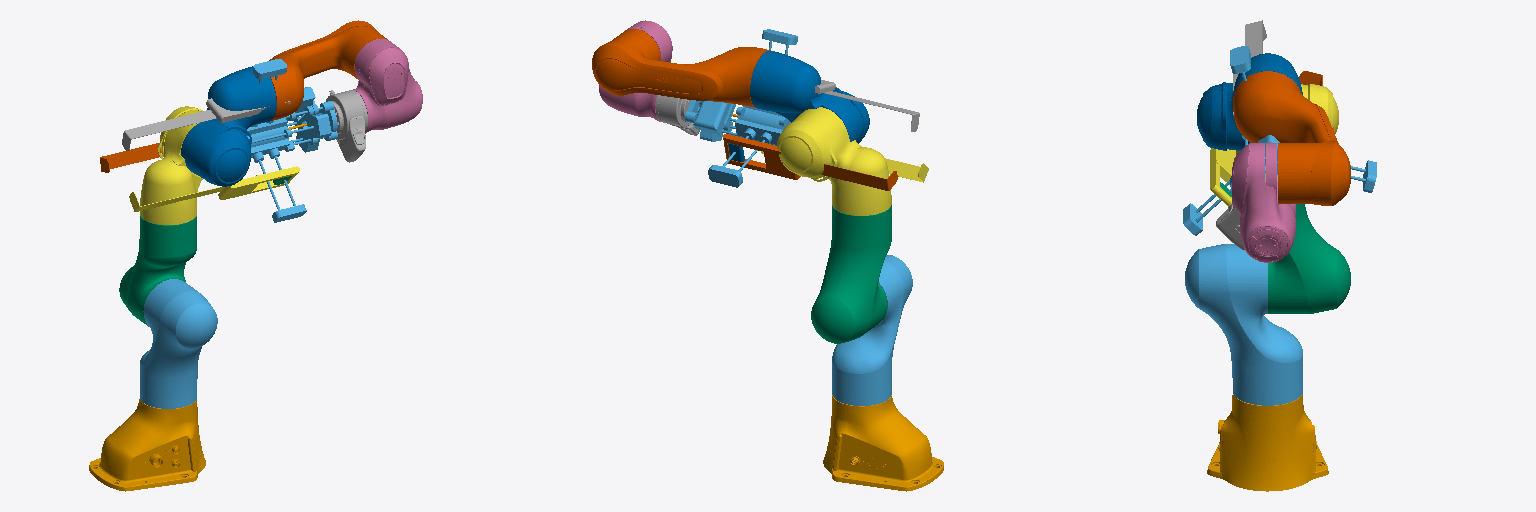
--- Render facts (derived) ---
3 views of the same robot in one strip: view 1: azimuth 30°, elevation 25°; view 2: azimuth 150°, elevation 25°; view 3: azimuth 270°, elevation 25° (orthographic).
Model panda_and_gripper with 18 links and 17 joints (10 revolute, 4 prismatic, 3 fixed), rooted at world, posed joints at zero except 4 at the middle of their limits (panda_joint4 = -1.57, finger_1_prismatic_joint = 0.0915, finger_2_prismatic_joint = 0.0915, finger_3_prismatic_joint = 0.0915).
Visible links, largest first — view 1: panda_link0, panda_link1, panda_link4, panda_link6, gripper_base_link, panda_link5, panda_link2, panda_link3, panda_link7, finger_3, finger_1, finger_2; view 2: panda_link0, panda_link5, panda_link2, panda_link3, panda_link1, panda_link4, gripper_base_link, finger_2, panda_link6, panda_link7, finger_3, finger_1; view 3: panda_link1, panda_link5, panda_link0, panda_link2, panda_link6, panda_link4, gripper_base_link, finger_1, panda_link3, panda_link7, finger_3.
Boxes of the visible links, x1=… form: panda_link0: x1=89, y1=399, x2=205, y2=491; panda_link1: x1=140, y1=279, x2=217, y2=408; panda_link4: x1=181, y1=66, x2=276, y2=186; panda_link6: x1=353, y1=39, x2=422, y2=133; gripper_base_link: x1=247, y1=59, x2=337, y2=222; panda_link5: x1=269, y1=20, x2=387, y2=121; panda_link2: x1=119, y1=216, x2=196, y2=326; panda_link3: x1=140, y1=106, x2=202, y2=224; panda_link7: x1=326, y1=90, x2=367, y2=162; finger_3: x1=122, y1=98, x2=290, y2=150; finger_1: x1=129, y1=166, x2=299, y2=211; finger_2: x1=100, y1=143, x2=161, y2=172; panda_link0: x1=823, y1=395, x2=943, y2=491; panda_link5: x1=592, y1=29, x2=770, y2=107; panda_link2: x1=811, y1=205, x2=891, y2=343; panda_link3: x1=777, y1=107, x2=891, y2=215; panda_link1: x1=832, y1=255, x2=912, y2=405; panda_link4: x1=750, y1=51, x2=869, y2=143; gripper_base_link: x1=684, y1=29, x2=797, y2=187; finger_2: x1=723, y1=134, x2=897, y2=190; panda_link6: x1=599, y1=20, x2=672, y2=121; panda_link7: x1=655, y1=95, x2=699, y2=135; finger_3: x1=815, y1=80, x2=919, y2=131; finger_1: x1=761, y1=151, x2=928, y2=182; panda_link1: x1=1185, y1=244, x2=1302, y2=405; panda_link5: x1=1233, y1=71, x2=1350, y2=205; panda_link0: x1=1207, y1=394, x2=1328, y2=491; panda_link2: x1=1268, y1=204, x2=1350, y2=313; panda_link6: x1=1232, y1=143, x2=1295, y2=262; panda_link4: x1=1197, y1=53, x2=1302, y2=150; gripper_base_link: x1=1183, y1=46, x2=1376, y2=235; finger_1: x1=1210, y1=148, x2=1235, y2=206; panda_link3: x1=1236, y1=84, x2=1338, y2=155; panda_link7: x1=1216, y1=173, x2=1295, y2=249; finger_3: x1=1233, y1=20, x2=1266, y2=114.
Bounding box of the posed robot: 0.7022 × 0.301 × 0.8128 m (x, y, z).
16 mesh visuals loaded from 12 distinct referenced files (12 binary STL).

The robot description file, URDF, robot "panda_and_gripper":
<?xml version="1.0" ?>
<!-- =================================================================================== -->
<!-- |    This document was autogenerated by xacro from panda_and_gripper.urdf.xacro   | -->
<!-- |    EDITING THIS FILE BY HAND IS NOT RECOMMENDED                                 | -->
<!-- =================================================================================== -->
<robot name="panda_and_gripper">
  <!-- <link name="world" />
    <xacro:unless value="${not connected_to}">
      <joint name="virtual_joint" type="fixed">
        <parent link="${connected_to}"/>
        <child link="${arm_id}_link0"/>
        <origin rpy="${rpy}" xyz="${xyz}"/>
        <dynamics damping="1.0"/>
      </joint>
    </xacro:unless> -->
  <!-- PARAMETERS TO SET BY HAND -->
  <!-- END OF PARAMETERS TO SET BY HAND -->
  <!-- original working mesh links -->
  <!--    <xacro:arm_link number="0" visual_mesh="package://${mesh_folder}/visual/link0.dae"-->
  <!--      collision_mesh="package://${mesh_folder}/collision/link0.stl" mass="3.06"/>-->
  <!--    <xacro:arm_link number="1" visual_mesh="package://${mesh_folder}/visual/link1.dae"-->
  <!--      collision_mesh="package://${mesh_folder}/collision/link1.stl" mass="2.34"/>-->
  <!--    <xacro:arm_link number="2" visual_mesh="package://${mesh_folder}/visual/link2.dae"-->
  <!--      collision_mesh="package://${mesh_folder}/collision/link2.stl" mass="2.36"/>-->
  <!--    <xacro:arm_link number="3" visual_mesh="package://${mesh_folder}/visual/link3.dae"-->
  <!--      collision_mesh="package://${mesh_folder}/collision/link3.stl" mass="2.38"/>-->
  <!--    <xacro:arm_link number="4" visual_mesh="package://${mesh_folder}/visual/link4.dae"-->
  <!--      collision_mesh="package://${mesh_folder}/collision/link4.stl" mass="2.43"/>-->
  <!--    <xacro:arm_link number="5" visual_mesh="package://${mesh_folder}/visual/link5.dae"-->
  <!--      collision_mesh="package://${mesh_folder}/collision/link5.stl" mass="3.5"/>-->
  <!--    <xacro:arm_link number="6" visual_mesh="package://${mesh_folder}/visual/link6.dae"-->
  <!--      collision_mesh="package://${mesh_folder}/collision/link6.stl" mass="1.47"/>-->
  <!--    <xacro:arm_link number="7" visual_mesh="package://${mesh_folder}/visual/link7.dae"-->
  <!--      collision_mesh="package://${mesh_folder}/collision/link7.stl" mass="0.45"/>-->
  <!--     <xacro:arm_link number="8"/>-->
  <link name="panda_link0">
    <visual>
      <geometry>
        <mesh filename="package://gripper_description/meshes_panda/panda visual link0.stl"/>
      </geometry>
    </visual>
    <collision>
      <geometry>
        <mesh filename="package://gripper_description/meshes_panda/panda collision link0.stl"/>
      </geometry>
    </collision>
    <inertial>
      <origin rpy="0 0 0" xyz="0 0 0"/>
      <mass value="3.06"/>
      <inertia ixx="0.3" ixy="0.0" ixz="0.0" iyy="0.3" iyz="0.0" izz="0.3"/>
    </inertial>
  </link>
  <link name="panda_link1">
    <visual>
      <geometry>
        <mesh filename="package://gripper_description/meshes_panda/panda visual link1.stl"/>
      </geometry>
    </visual>
    <collision>
      <geometry>
        <mesh filename="package://gripper_description/meshes_panda/panda collision link1.stl"/>
      </geometry>
    </collision>
    <inertial>
      <origin rpy="0 0 0" xyz="0 0 0"/>
      <mass value="2.34"/>
      <inertia ixx="7.0337e-01" ixy="-1.3900e-04" ixz="6.7720e-03" iyy="7.0661e-01" iyz="1.9169e-02" izz="9.1170e-03"/>
    </inertial>
  </link>
  <link name="panda_link2">
    <visual>
      <geometry>
        <mesh filename="package://gripper_description/meshes_panda/panda visual link2.stl"/>
      </geometry>
    </visual>
    <collision>
      <geometry>
        <mesh filename="package://gripper_description/meshes_panda/panda collision link2.stl"/>
      </geometry>
    </collision>
    <inertial>
      <origin rpy="0 0 0" xyz="0 0 0"/>
      <mass value="2.36"/>
      <inertia ixx="7.9620e-03" ixy="-3.9250e-03" ixz="1.0254e-02" iyy="2.8110e-02" iyz="7.0400e-04" izz="2.5995e-02"/>
    </inertial>
  </link>
  <link name="panda_link3">
    <visual>
      <geometry>
        <mesh filename="package://gripper_description/meshes_panda/panda visual link3.stl"/>
      </geometry>
    </visual>
    <collision>
      <geometry>
        <mesh filename="package://gripper_description/meshes_panda/panda collision link3.stl"/>
      </geometry>
    </collision>
    <inertial>
      <origin rpy="0 0 0" xyz="0 0 0"/>
      <mass value="2.38"/>
      <inertia ixx="3.7242e-02" ixy="-4.7610e-03" ixz="-1.1396e-02" iyy="3.6155e-02" iyz="-1.2805e-02" izz="1.0830e-02"/>
    </inertial>
  </link>
  <link name="panda_link4">
    <visual>
      <geometry>
        <mesh filename="package://gripper_description/meshes_panda/panda visual link4.stl"/>
      </geometry>
    </visual>
    <collision>
      <geometry>
        <mesh filename="package://gripper_description/meshes_panda/panda collision link4.stl"/>
      </geometry>
    </collision>
    <inertial>
      <origin rpy="0 0 0" xyz="0 0 0"/>
      <mass value="2.43"/>
      <inertia ixx="2.5853e-02" ixy="7.7960e-03" ixz="-1.3320e-03" iyy="1.9552e-02" iyz="8.6410e-03" izz="2.8323e-02"/>
    </inertial>
  </link>
  <link name="panda_link5">
    <visual>
      <geometry>
        <mesh filename="package://gripper_description/meshes_panda/panda visual link5.stl"/>
      </geometry>
    </visual>
    <collision>
      <geometry>
        <mesh filename="package://gripper_description/meshes_panda/panda collision link5.stl"/>
      </geometry>
    </collision>
    <inertial>
      <origin rpy="0 0 0" xyz="0 0 0"/>
      <mass value="3.5"/>
      <inertia ixx="3.5549e-02" ixy="-2.1170e-03" ixz="-4.0370e-03" iyy="2.9474e-02" iyz="2.2900e-04" izz="8.6270e-03"/>
    </inertial>
  </link>
  <link name="panda_link6">
    <visual>
      <geometry>
        <mesh filename="package://gripper_description/meshes_panda/panda visual link6.stl"/>
      </geometry>
    </visual>
    <collision>
      <geometry>
        <mesh filename="package://gripper_description/meshes_panda/panda collision link6.stl"/>
      </geometry>
    </collision>
    <inertial>
      <origin rpy="0 0 0" xyz="0 0 0"/>
      <mass value="1.47"/>
      <inertia ixx="1.9640e-03" ixy="1.0900e-04" ixz="-1.1580e-03" iyy="4.3540e-03" iyz="3.4100e-04" izz="5.4330e-03"/>
    </inertial>
  </link>
  <link name="panda_link7">
    <visual>
      <geometry>
        <mesh filename="package://gripper_description/meshes_panda/panda visual link7.stl"/>
      </geometry>
    </visual>
    <collision>
      <geometry>
        <mesh filename="package://gripper_description/meshes_panda/panda collision link7.stl"/>
      </geometry>
    </collision>
    <inertial>
      <origin rpy="0 0 0" xyz="0 0 0"/>
      <mass value="0.45"/>
      <inertia ixx="1.2516e-02" ixy="-4.2800e-04" ixz="-1.1960e-03" iyy="1.0027e-02" iyz="-7.4100e-04" izz="4.8150e-03"/>
    </inertial>
  </link>
  <link name="panda_link8">
    <inertial>
      <origin rpy="0 0 0" xyz="0 0 0"/>
      <mass value="0.0"/>
      <inertia ixx="1e-4" ixy="0.0" ixz="0.0" iyy="1e-4" iyz="0.0" izz="1e-4"/>
    </inertial>
  </link>
  <!-- joint6 limit lower = -0.0175 -->
  <joint name="panda_joint1" type="revolute">
    <safety_controller k_position="100.0" k_velocity="40.0" soft_lower_limit="-2.8973" soft_upper_limit="2.8973"/>
    <origin rpy="0 0 0" xyz="0 0 0.333"/>
    <parent link="panda_link0"/>
    <child link="panda_link1"/>
    <limit effort="87" lower="-2.8973" upper="2.8973" velocity="2.175"/>
    <axis xyz="0 0 1"/>
    <dynamics damping="1.0" friction="0.1"/>
  </joint>
  <joint name="panda_joint2" type="revolute">
    <safety_controller k_position="100.0" k_velocity="40.0" soft_lower_limit="-1.7628" soft_upper_limit="1.7628"/>
    <origin rpy="-1.5707963267948966 0 0" xyz="0 0 0"/>
    <parent link="panda_link1"/>
    <child link="panda_link2"/>
    <limit effort="87" lower="-1.7628" upper="1.7628" velocity="2.175"/>
    <axis xyz="0 0 1"/>
    <dynamics damping="1.0" friction="0.1"/>
  </joint>
  <joint name="panda_joint3" type="revolute">
    <safety_controller k_position="100.0" k_velocity="40.0" soft_lower_limit="-2.8973" soft_upper_limit="2.8973"/>
    <origin rpy="1.5707963267948966 0 0" xyz="0 -0.316 0"/>
    <parent link="panda_link2"/>
    <child link="panda_link3"/>
    <limit effort="87" lower="-2.8973" upper="2.8973" velocity="2.175"/>
    <axis xyz="0 0 1"/>
    <dynamics damping="1.0" friction="0.1"/>
  </joint>
  <joint name="panda_joint4" type="revolute">
    <safety_controller k_position="100.0" k_velocity="40.0" soft_lower_limit="-3.0718" soft_upper_limit="-0.0698"/>
    <origin rpy="1.5707963267948966 0 0" xyz="0.0825 0 0"/>
    <parent link="panda_link3"/>
    <child link="panda_link4"/>
    <limit effort="87" lower="-3.0718" upper="-0.0698" velocity="2.175"/>
    <axis xyz="0 0 1"/>
    <dynamics damping="1.0" friction="0.1"/>
  </joint>
  <joint name="panda_joint5" type="revolute">
    <safety_controller k_position="100.0" k_velocity="40.0" soft_lower_limit="-2.8973" soft_upper_limit="2.8973"/>
    <origin rpy="-1.5707963267948966 0 0" xyz="-0.0825 0.384 0"/>
    <parent link="panda_link4"/>
    <child link="panda_link5"/>
    <limit effort="12" lower="-2.8973" upper="2.8973" velocity="2.61"/>
    <axis xyz="0 0 1"/>
    <dynamics damping="1.0" friction="0.1"/>
  </joint>
  <joint name="panda_joint6" type="revolute">
    <safety_controller k_position="100.0" k_velocity="40.0" soft_lower_limit="-0.0175" soft_upper_limit="3.7525"/>
    <origin rpy="1.5707963267948966 0 0" xyz="0 0 0"/>
    <parent link="panda_link5"/>
    <child link="panda_link6"/>
    <limit effort="12" lower="-0.0175" upper="3.7525" velocity="2.61"/>
    <axis xyz="0 0 1"/>
    <dynamics damping="1.0" friction="0.1"/>
  </joint>
  <joint name="panda_joint7" type="revolute">
    <safety_controller k_position="100.0" k_velocity="40.0" soft_lower_limit="-2.8973" soft_upper_limit="2.8973"/>
    <origin rpy="1.5707963267948966 0 0" xyz="0.088 0 0"/>
    <parent link="panda_link6"/>
    <child link="panda_link7"/>
    <limit effort="12" lower="-2.8973" upper="2.8973" velocity="2.61"/>
    <axis xyz="0 0 1"/>
    <dynamics damping="1.0" friction="0.1"/>
  </joint>
  <joint name="panda_joint8" type="fixed">
    <origin rpy="0 0 0" xyz="0 0 0.107"/>
    <parent link="panda_link7"/>
    <child link="panda_link8"/>
    <axis xyz="0 0 0"/>
    <dynamics damping="1.0" friction="0.1"/>
  </joint>
  <gazebo reference="panda_link0">
    <material>Gazebo/White</material>
    <mu1>0.2</mu1>
    <mu2>0.2</mu2>
  </gazebo>
  <gazebo reference="panda_link1">
    <material>Gazebo/White</material>
    <mu1>0.2</mu1>
    <mu2>0.2</mu2>
  </gazebo>
  <gazebo reference="panda_link2">
    <material>Gazebo/White</material>
    <mu1>0.2</mu1>
    <mu2>0.2</mu2>
  </gazebo>
  <gazebo reference="panda_link3">
    <material>Gazebo/White</material>
    <mu1>0.2</mu1>
    <mu2>0.2</mu2>
  </gazebo>
  <gazebo reference="panda_link4">
    <material>Gazebo/White</material>
    <mu1>0.2</mu1>
    <mu2>0.2</mu2>
  </gazebo>
  <gazebo reference="panda_link5">
    <material>Gazebo/White</material>
    <mu1>0.2</mu1>
    <mu2>0.2</mu2>
  </gazebo>
  <gazebo reference="panda_link6">
    <material>Gazebo/White</material>
    <mu1>0.2</mu1>
    <mu2>0.2</mu2>
  </gazebo>
  <gazebo reference="gripper_base_link">
    <material>Gazebo/Grey</material>
    <mu1>0.2</mu1>
    <mu2>0.2</mu2>
  </gazebo>
  <gazebo reference="finger_1_intermediate">
    <material>Gazebo/Grey</material>
    <mu1>0.2</mu1>
    <mu2>0.2</mu2>
  </gazebo>
  <gazebo reference="finger_1">
    <material>Gazebo/Grey</material>
    <mu1>0.2</mu1>
    <mu2>0.2</mu2>
  </gazebo>
  <gazebo reference="finger_2_intermediate">
    <material>Gazebo/Grey</material>
    <mu1>0.2</mu1>
    <mu2>0.2</mu2>
  </gazebo>
  <gazebo reference="finger_2">
    <material>Gazebo/Grey</material>
    <mu1>0.2</mu1>
    <mu2>0.2</mu2>
  </gazebo>
  <gazebo reference="finger_3_intermediate">
    <material>Gazebo/Grey</material>
    <mu1>0.2</mu1>
    <mu2>0.2</mu2>
  </gazebo>
  <gazebo reference="finger_3">
    <material>Gazebo/Grey</material>
    <mu1>0.2</mu1>
    <mu2>0.2</mu2>
  </gazebo>
  <gazebo reference="palm">
    <material>Gazebo/Grey</material>
    <mu1>0.2</mu1>
    <mu2>0.2</mu2>
  </gazebo>
  <transmission name="panda_tran_1">
    <type>transmission_interface/SimpleTransmission</type>
    <joint name="panda_joint1">
      <!-- <hardwareInterface>hardware_interface/EffortJointInterface</hardwareInterface> -->
      <hardwareInterface>hardware_interface/PositionJointInterface</hardwareInterface>
    </joint>
    <actuator name="panda_motor_1">
      <!-- <hardwareInterface>hardware_interface/EffortJointInterface</hardwareInterface> -->
      <hardwareInterface>hardware_interface/PositionJointInterface</hardwareInterface>
      <mechanicalReduction>1</mechanicalReduction>
    </actuator>
  </transmission>
  <transmission name="panda_tran_2">
    <type>transmission_interface/SimpleTransmission</type>
    <joint name="panda_joint2">
      <!-- <hardwareInterface>hardware_interface/EffortJointInterface</hardwareInterface> -->
      <hardwareInterface>hardware_interface/PositionJointInterface</hardwareInterface>
    </joint>
    <actuator name="panda_motor_2">
      <!-- <hardwareInterface>hardware_interface/EffortJointInterface</hardwareInterface> -->
      <hardwareInterface>hardware_interface/PositionJointInterface</hardwareInterface>
      <mechanicalReduction>1</mechanicalReduction>
    </actuator>
  </transmission>
  <transmission name="panda_tran_3">
    <type>transmission_interface/SimpleTransmission</type>
    <joint name="panda_joint3">
      <!-- <hardwareInterface>hardware_interface/EffortJointInterface</hardwareInterface> -->
      <hardwareInterface>hardware_interface/PositionJointInterface</hardwareInterface>
    </joint>
    <actuator name="panda_motor_3">
      <!-- <hardwareInterface>hardware_interface/EffortJointInterface</hardwareInterface> -->
      <hardwareInterface>hardware_interface/PositionJointInterface</hardwareInterface>
      <mechanicalReduction>1</mechanicalReduction>
    </actuator>
  </transmission>
  <transmission name="panda_tran_4">
    <type>transmission_interface/SimpleTransmission</type>
    <joint name="panda_joint4">
      <!-- <hardwareInterface>hardware_interface/EffortJointInterface</hardwareInterface> -->
      <hardwareInterface>hardware_interface/PositionJointInterface</hardwareInterface>
    </joint>
    <actuator name="panda_motor_4">
      <!-- <hardwareInterface>hardware_interface/EffortJointInterface</hardwareInterface> -->
      <hardwareInterface>hardware_interface/PositionJointInterface</hardwareInterface>
      <mechanicalReduction>1</mechanicalReduction>
    </actuator>
  </transmission>
  <transmission name="panda_tran_5">
    <type>transmission_interface/SimpleTransmission</type>
    <joint name="panda_joint5">
      <!-- <hardwareInterface>hardware_interface/EffortJointInterface</hardwareInterface> -->
      <hardwareInterface>hardware_interface/PositionJointInterface</hardwareInterface>
    </joint>
    <actuator name="panda_motor_5">
      <!-- <hardwareInterface>hardware_interface/EffortJointInterface</hardwareInterface> -->
      <hardwareInterface>hardware_interface/PositionJointInterface</hardwareInterface>
      <mechanicalReduction>1</mechanicalReduction>
    </actuator>
  </transmission>
  <transmission name="panda_tran_6">
    <type>transmission_interface/SimpleTransmission</type>
    <joint name="panda_joint6">
      <!-- <hardwareInterface>hardware_interface/EffortJointInterface</hardwareInterface> -->
      <hardwareInterface>hardware_interface/PositionJointInterface</hardwareInterface>
    </joint>
    <actuator name="panda_motor_6">
      <!-- <hardwareInterface>hardware_interface/EffortJointInterface</hardwareInterface> -->
      <hardwareInterface>hardware_interface/PositionJointInterface</hardwareInterface>
      <mechanicalReduction>1</mechanicalReduction>
    </actuator>
  </transmission>
  <transmission name="panda_tran_7">
    <type>transmission_interface/SimpleTransmission</type>
    <joint name="panda_joint7">
      <!-- <hardwareInterface>hardware_interface/EffortJointInterface</hardwareInterface> -->
      <hardwareInterface>hardware_interface/PositionJointInterface</hardwareInterface>
    </joint>
    <actuator name="panda_motor_7">
      <!-- <hardwareInterface>hardware_interface/EffortJointInterface</hardwareInterface> -->
      <hardwareInterface>hardware_interface/PositionJointInterface</hardwareInterface>
      <mechanicalReduction>1</mechanicalReduction>
    </actuator>
  </transmission>
  <transmission name="panda_tran_8">
    <type>transmission_interface/SimpleTransmission</type>
    <joint name="finger_1_revolute_joint">
      <!-- <hardwareInterface>hardware_interface/EffortJointInterface</hardwareInterface> -->
      <hardwareInterface>hardware_interface/PositionJointInterface</hardwareInterface>
    </joint>
    <actuator name="panda_motor_8">
      <!-- <hardwareInterface>hardware_interface/EffortJointInterface</hardwareInterface> -->
      <hardwareInterface>hardware_interface/PositionJointInterface</hardwareInterface>
      <mechanicalReduction>1</mechanicalReduction>
    </actuator>
  </transmission>
  <transmission name="panda_tran_9">
    <type>transmission_interface/SimpleTransmission</type>
    <joint name="finger_1_prismatic_joint">
      <!-- <hardwareInterface>hardware_interface/EffortJointInterface</hardwareInterface> -->
      <hardwareInterface>hardware_interface/PositionJointInterface</hardwareInterface>
    </joint>
    <actuator name="panda_motor_9">
      <!-- <hardwareInterface>hardware_interface/EffortJointInterface</hardwareInterface> -->
      <hardwareInterface>hardware_interface/PositionJointInterface</hardwareInterface>
      <mechanicalReduction>1</mechanicalReduction>
    </actuator>
  </transmission>
  <transmission name="panda_tran_10">
    <type>transmission_interface/SimpleTransmission</type>
    <joint name="finger_2_revolute_joint">
      <!-- <hardwareInterface>hardware_interface/EffortJointInterface</hardwareInterface> -->
      <hardwareInterface>hardware_interface/PositionJointInterface</hardwareInterface>
    </joint>
    <actuator name="panda_motor_10">
      <!-- <hardwareInterface>hardware_interface/EffortJointInterface</hardwareInterface> -->
      <hardwareInterface>hardware_interface/PositionJointInterface</hardwareInterface>
      <mechanicalReduction>1</mechanicalReduction>
    </actuator>
  </transmission>
  <transmission name="panda_tran_11">
    <type>transmission_interface/SimpleTransmission</type>
    <joint name="finger_2_prismatic_joint">
      <!-- <hardwareInterface>hardware_interface/EffortJointInterface</hardwareInterface> -->
      <hardwareInterface>hardware_interface/PositionJointInterface</hardwareInterface>
    </joint>
    <actuator name="panda_motor_11">
      <!-- <hardwareInterface>hardware_interface/EffortJointInterface</hardwareInterface> -->
      <hardwareInterface>hardware_interface/PositionJointInterface</hardwareInterface>
      <mechanicalReduction>1</mechanicalReduction>
    </actuator>
  </transmission>
  <transmission name="panda_tran_12">
    <type>transmission_interface/SimpleTransmission</type>
    <joint name="finger_3_revolute_joint">
      <!-- <hardwareInterface>hardware_interface/EffortJointInterface</hardwareInterface> -->
      <hardwareInterface>hardware_interface/PositionJointInterface</hardwareInterface>
    </joint>
    <actuator name="panda_motor_12">
      <!-- <hardwareInterface>hardware_interface/EffortJointInterface</hardwareInterface> -->
      <hardwareInterface>hardware_interface/PositionJointInterface</hardwareInterface>
      <mechanicalReduction>1</mechanicalReduction>
    </actuator>
  </transmission>
  <transmission name="panda_tran_13">
    <type>transmission_interface/SimpleTransmission</type>
    <joint name="finger_3_prismatic_joint">
      <!-- <hardwareInterface>hardware_interface/EffortJointInterface</hardwareInterface> -->
      <hardwareInterface>hardware_interface/PositionJointInterface</hardwareInterface>
    </joint>
    <actuator name="panda_motor_13">
      <!-- <hardwareInterface>hardware_interface/EffortJointInterface</hardwareInterface> -->
      <hardwareInterface>hardware_interface/PositionJointInterface</hardwareInterface>
      <mechanicalReduction>1</mechanicalReduction>
    </actuator>
  </transmission>
  <transmission name="panda_tran_14">
    <type>transmission_interface/SimpleTransmission</type>
    <joint name="palm_prismatic_joint">
      <!-- <hardwareInterface>hardware_interface/EffortJointInterface</hardwareInterface> -->
      <hardwareInterface>hardware_interface/PositionJointInterface</hardwareInterface>
    </joint>
    <actuator name="panda_motor_14">
      <!-- <hardwareInterface>hardware_interface/EffortJointInterface</hardwareInterface> -->
      <hardwareInterface>hardware_interface/PositionJointInterface</hardwareInterface>
      <mechanicalReduction>1</mechanicalReduction>
    </actuator>
  </transmission>
  <gazebo>
    <plugin filename="libgazebo_ros_control.so" name="gazebo_ros_control">
      <!--            	<robotNamespace>/gripper_controller</robotNamespace>-->
    </plugin>
  </gazebo>
  <!-- PARAMETERS TO BE SET BY HAND -->
  <!-- END OF PARAMETERS TO BE SET BY HAND -->
  <!-- PARAMETERS TO BE SET BY HAND -->
  <!-- END OF PARAMETER TO BE SET BY HAND -->
  <!-- BASE LINK -->
  <link name="gripper_base_link">
    <inertial>
      <mass value="1.5"/>
      <origin rpy="3.141592653589793 0 0" xyz="0 0 0.025"/>
      <inertia ixx="9.95e-3" ixy="2.73e-6" ixz="-14.32e-6" iyy="10.08e-3" iyz="121.38e-6" izz="5.13e-3"/>
    </inertial>
    <visual>
      <geometry>
        <mesh filename="package://gripper_description/meshes/main body visual.STL"/>
      </geometry>
    </visual>
    <collision>
      <geometry>
        <!--          <mesh filename="package://gripper_description/meshes/main body collision.STL"/>-->
        <cylinder length="0.1" radius="0.03"/>
      </geometry>
    </collision>
  </link>
  <!-- Intermediate link for prismatic joint -->
  <link name="finger_1_intermediate">
    <inertial>
      <mass value="0.1"/>
      <origin rpy="0 0 0" xyz="0 0 0"/>
      <inertia ixx="55.59e-6" ixy="-47.23e-6" ixz="1.16e-6" iyy="146.36e-6" iyz="1.00e-6" izz="154.18e-6"/>
    </inertial>
    <visual>
      <geometry>
        <mesh filename="package://gripper_description/meshes/nut visual.STL"/>
      </geometry>
    </visual>
    <collision>
      <geometry>
        <mesh filename="package://gripper_description/meshes/nut collision.STL"/>
      </geometry>
    </collision>
  </link>
  <!-- Main finger link -->
  <link name="finger_1">
    <inertial>
      <mass value="0.2"/>
      <origin rpy="0 0 0" xyz="0 0 0"/>
      <inertia ixx="283.44e-6" ixy="-567.23e-6" ixz="-6.59e-6" iyy="1.38e-3" iyz="2.40e-6" izz="1.60e-3"/>
    </inertial>
    <visual>
      <geometry>
        <mesh filename="package://gripper_description/meshes/finger platform visual.STL"/>
      </geometry>
    </visual>
    <collision>
      <geometry>
        <mesh filename="package://gripper_description/meshes/finger platform collision.STL"/>
      </geometry>
    </collision>
  </link>
  <joint name="finger_1_prismatic_joint" type="prismatic">
    <axis rpy="0 0 0" xyz="0 1 0"/>
    <parent link="gripper_base_link"/>
    <child link="finger_1_intermediate"/>
    <origin rpy="4.71238898038469                    4.71238898038469                    1.5707963267948966" xyz="0.0                    0.0                    0"/>
    <limit effort="40.0" lower="0.049" upper="0.134" velocity="0.015"/>
    <dynamics damping="1.0"/>
  </joint>
  <joint name="finger_1_revolute_joint" type="revolute">
    <axis rpy="0 0 0" xyz="0 0 1"/>
    <parent link="finger_1_intermediate"/>
    <child link="finger_1"/>
    <origin rpy="0 0 0.0" xyz="0 0 0"/>
    <limit effort="40.0" lower="-0.7" upper="0.7" velocity="0.1"/>
    <dynamics damping="1.0"/>
  </joint>
  <!-- Intermediate link for prismatic joint -->
  <link name="finger_2_intermediate">
    <inertial>
      <mass value="0.1"/>
      <origin rpy="0 0 0" xyz="0 0 0"/>
      <inertia ixx="55.59e-6" ixy="-47.23e-6" ixz="1.16e-6" iyy="146.36e-6" iyz="1.00e-6" izz="154.18e-6"/>
    </inertial>
    <visual>
      <geometry>
        <mesh filename="package://gripper_description/meshes/nut visual.STL"/>
      </geometry>
    </visual>
    <collision>
      <geometry>
        <mesh filename="package://gripper_description/meshes/nut collision.STL"/>
      </geometry>
    </collision>
  </link>
  <!-- Main finger link -->
  <link name="finger_2">
    <inertial>
      <mass value="0.2"/>
      <origin rpy="0 0 0" xyz="0 0 0"/>
      <inertia ixx="283.44e-6" ixy="-567.23e-6" ixz="-6.59e-6" iyy="1.38e-3" iyz="2.40e-6" izz="1.60e-3"/>
    </inertial>
    <visual>
      <geometry>
        <mesh filename="package://gripper_description/meshes/finger platform visual.STL"/>
      </geometry>
    </visual>
    <collision>
      <geometry>
        <mesh filename="package://gripper_description/meshes/finger platform collision.STL"/>
      </geometry>
    </collision>
  </link>
  <joint name="finger_2_prismatic_joint" type="prismatic">
    <axis rpy="0 0 0" xyz="0 1 0"/>
    <parent link="gripper_base_link"/>
    <child link="finger_2_intermediate"/>
    <origin rpy="4.71238898038469                    4.71238898038469                    -0.5235987755982987" xyz="0.0                    -0.0                    0"/>
    <limit effort="40.0" lower="0.049" upper="0.134" velocity="0.015"/>
    <dynamics damping="1.0"/>
  </joint>
  <joint name="finger_2_revolute_joint" type="revolute">
    <axis rpy="0 0 0" xyz="0 0 1"/>
    <parent link="finger_2_intermediate"/>
    <child link="finger_2"/>
    <origin rpy="0 0 0.0" xyz="0 0 0"/>
    <limit effort="40.0" lower="-0.7" upper="0.7" velocity="0.1"/>
    <dynamics damping="1.0"/>
  </joint>
  <!-- Intermediate link for prismatic joint -->
  <link name="finger_3_intermediate">
    <inertial>
      <mass value="0.1"/>
      <origin rpy="0 0 0" xyz="0 0 0"/>
      <inertia ixx="55.59e-6" ixy="-47.23e-6" ixz="1.16e-6" iyy="146.36e-6" iyz="1.00e-6" izz="154.18e-6"/>
    </inertial>
    <visual>
      <geometry>
        <mesh filename="package://gripper_description/meshes/nut visual.STL"/>
      </geometry>
    </visual>
    <collision>
      <geometry>
        <mesh filename="package://gripper_description/meshes/nut collision.STL"/>
      </geometry>
    </collision>
  </link>
  <!-- Main finger link -->
  <link name="finger_3">
    <inertial>
      <mass value="0.2"/>
      <origin rpy="0 0 0" xyz="0 0 0"/>
      <inertia ixx="283.44e-6" ixy="-567.23e-6" ixz="-6.59e-6" iyy="1.38e-3" iyz="2.40e-6" izz="1.60e-3"/>
    </inertial>
    <visual>
      <geometry>
        <mesh filename="package://gripper_description/meshes/finger platform visual.STL"/>
      </geometry>
    </visual>
    <collision>
      <geometry>
        <mesh filename="package://gripper_description/meshes/finger platform collision.STL"/>
      </geometry>
    </collision>
  </link>
  <joint name="finger_3_prismatic_joint" type="prismatic">
    <axis rpy="0 0 0" xyz="0 1 0"/>
    <parent link="gripper_base_link"/>
    <child link="finger_3_intermediate"/>
    <origin rpy="4.71238898038469                    4.71238898038469                    -2.617993877991494" xyz="-0.0                    -0.0                    0"/>
    <limit effort="40.0" lower="0.049" upper="0.134" velocity="0.015"/>
    <dynamics damping="1.0"/>
  </joint>
  <joint name="finger_3_revolute_joint" type="revolute">
    <axis rpy="0 0 0" xyz="0 0 1"/>
    <parent link="finger_3_intermediate"/>
    <child link="finger_3"/>
    <origin rpy="0 0 0.0" xyz="0 0 0"/>
    <limit effort="40.0" lower="-0.7" upper="0.7" velocity="0.1"/>
    <dynamics damping="1.0"/>
  </joint>
  <!-- PALM -->
  <link name="palm">
    <inertial>
      <mass value="0.05"/>
      <origin rpy="0 0 0" xyz="0 0 0"/>
      <inertia ixx="10.0e-6" ixy="0.0" ixz="0.0" iyy="10.0e-6" iyz="0.0" izz="10.0e-6"/>
    </inertial>
    <visual>
      <origin rpy="0 0 0" xyz="0 0 0"/>
      <geometry>
        <mesh filename="package://gripper_description/meshes/palm visual.STL"/>
      </geometry>
    </visual>
    <collision>
      <geometry>
        <mesh filename="package://gripper_description/meshes/palm collision.STL"/>
      </geometry>
    </collision>
  </link>
  <joint name="palm_prismatic_joint" type="prismatic">
    <axis rpy="0 0 0" xyz="1 0 0"/>
    <parent link="gripper_base_link"/>
    <child link="palm"/>
    <origin rpy="0 -1.5707963267948966 0" xyz="0 0 0"/>
    <limit effort="40.0" lower="0.0" upper="0.165" velocity="0.036"/>
    <dynamics damping="1.0"/>
  </joint>
  <!-- connect the panda to the ground -->
  <link name="world"/>
  <joint name="world_to_base" type="fixed">
    <origin rpy="0 0 0" xyz="0 0 0"/>
    <parent link="world"/>
    <child link="panda_link0"/>
  </joint>
  <!-- connect the gripper to the panda -->
  <!-- TODO verify these values -->
  <joint name="panda_to_eef_base_joint" type="fixed">
    <origin rpy="0 0 -0.7853981633974483" xyz="0 0 0.25"/>
    <parent link="panda_link7"/>
    <child link="gripper_base_link"/>
  </joint>
  <gazebo>
    <plugin filename="libreset_joints_plugin.so" name="reset_joints_plugin"/>
  </gazebo>
</robot>
